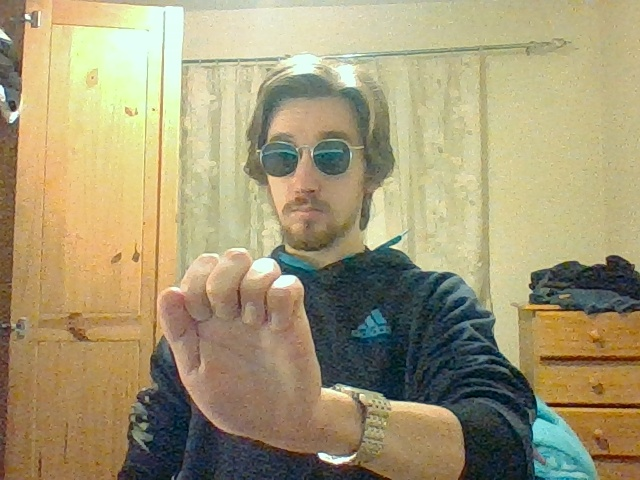your: (154, 248, 320, 409)
